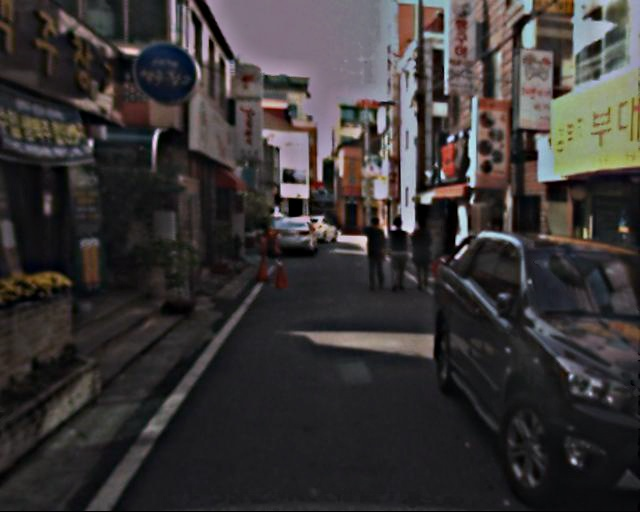person: (359, 217, 391, 294), (381, 215, 412, 291), (403, 220, 433, 293)
